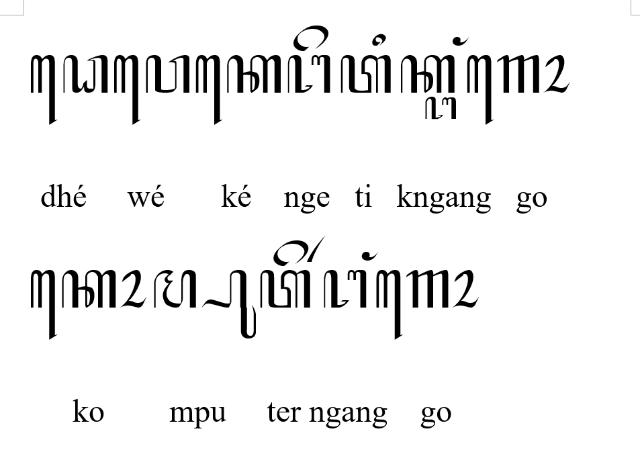_pu: (201, 269, 257, 339)
_r1: (306, 235, 326, 263)
dh: (62, 54, 110, 94)
e: (292, 24, 328, 52), (272, 240, 308, 266)
e1: (30, 54, 58, 126), (466, 54, 494, 126), (375, 269, 403, 341), (195, 54, 222, 126), (29, 270, 56, 340), (114, 54, 140, 126)
g: (406, 268, 449, 310), (497, 55, 541, 95)
i: (372, 33, 386, 49)
k: (399, 54, 456, 94), (226, 54, 280, 94), (62, 270, 116, 308)
m: (154, 270, 196, 308)
ng: (361, 250, 379, 261), (452, 36, 468, 46)
nga: (286, 54, 332, 94), (322, 270, 368, 308), (424, 96, 458, 120)
o: (543, 55, 571, 93), (452, 269, 478, 309), (120, 270, 146, 308)
t: (340, 53, 392, 93), (259, 270, 311, 310)
w: (146, 53, 190, 93)
